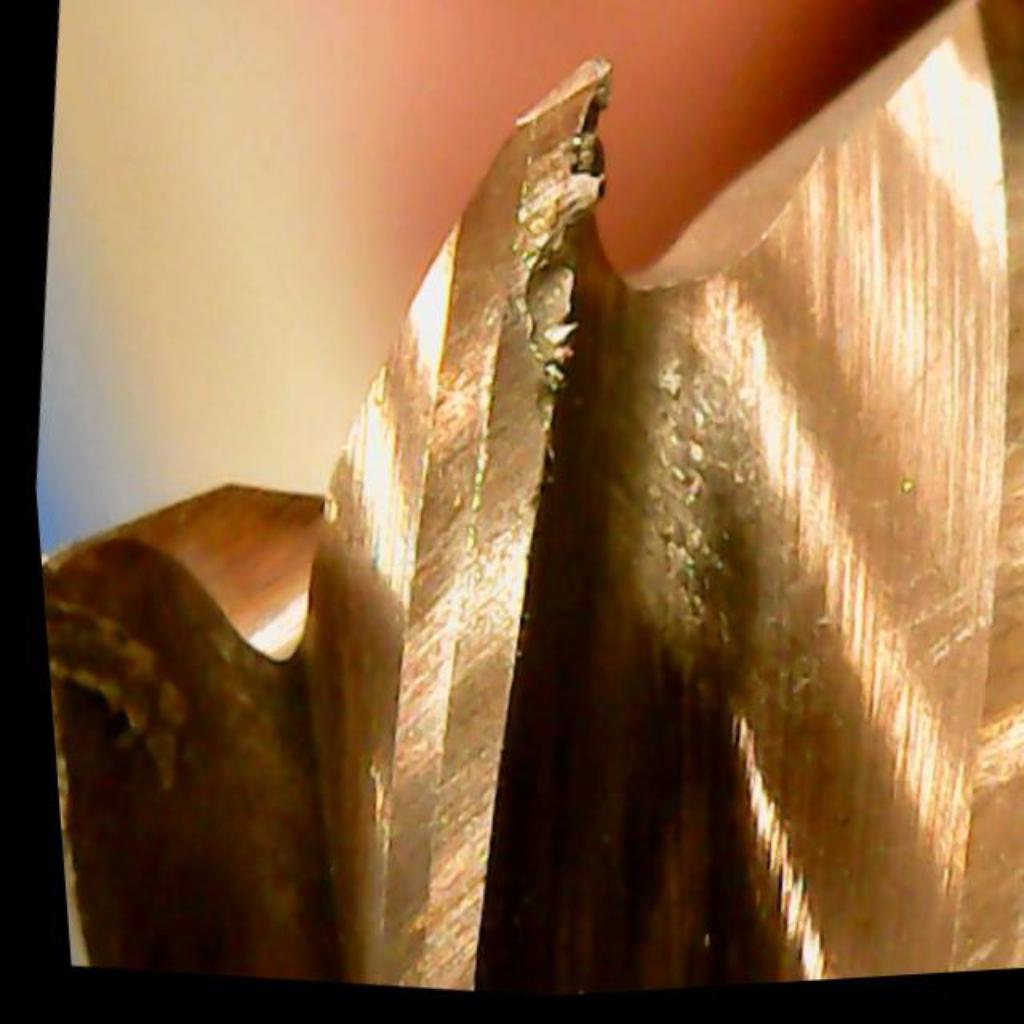Tool-wear-class-2: (374, 38, 661, 409)
